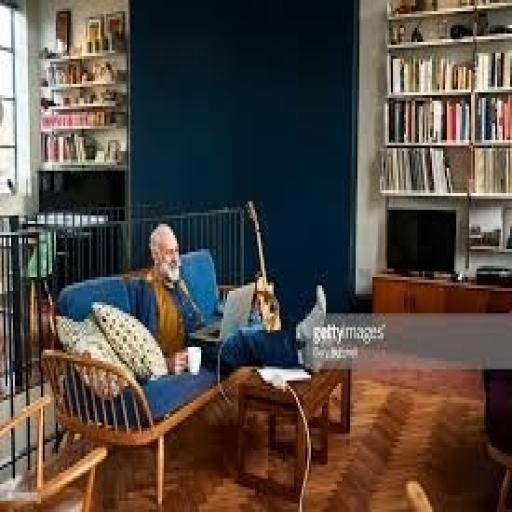using_laptop: (186, 280, 255, 344)
